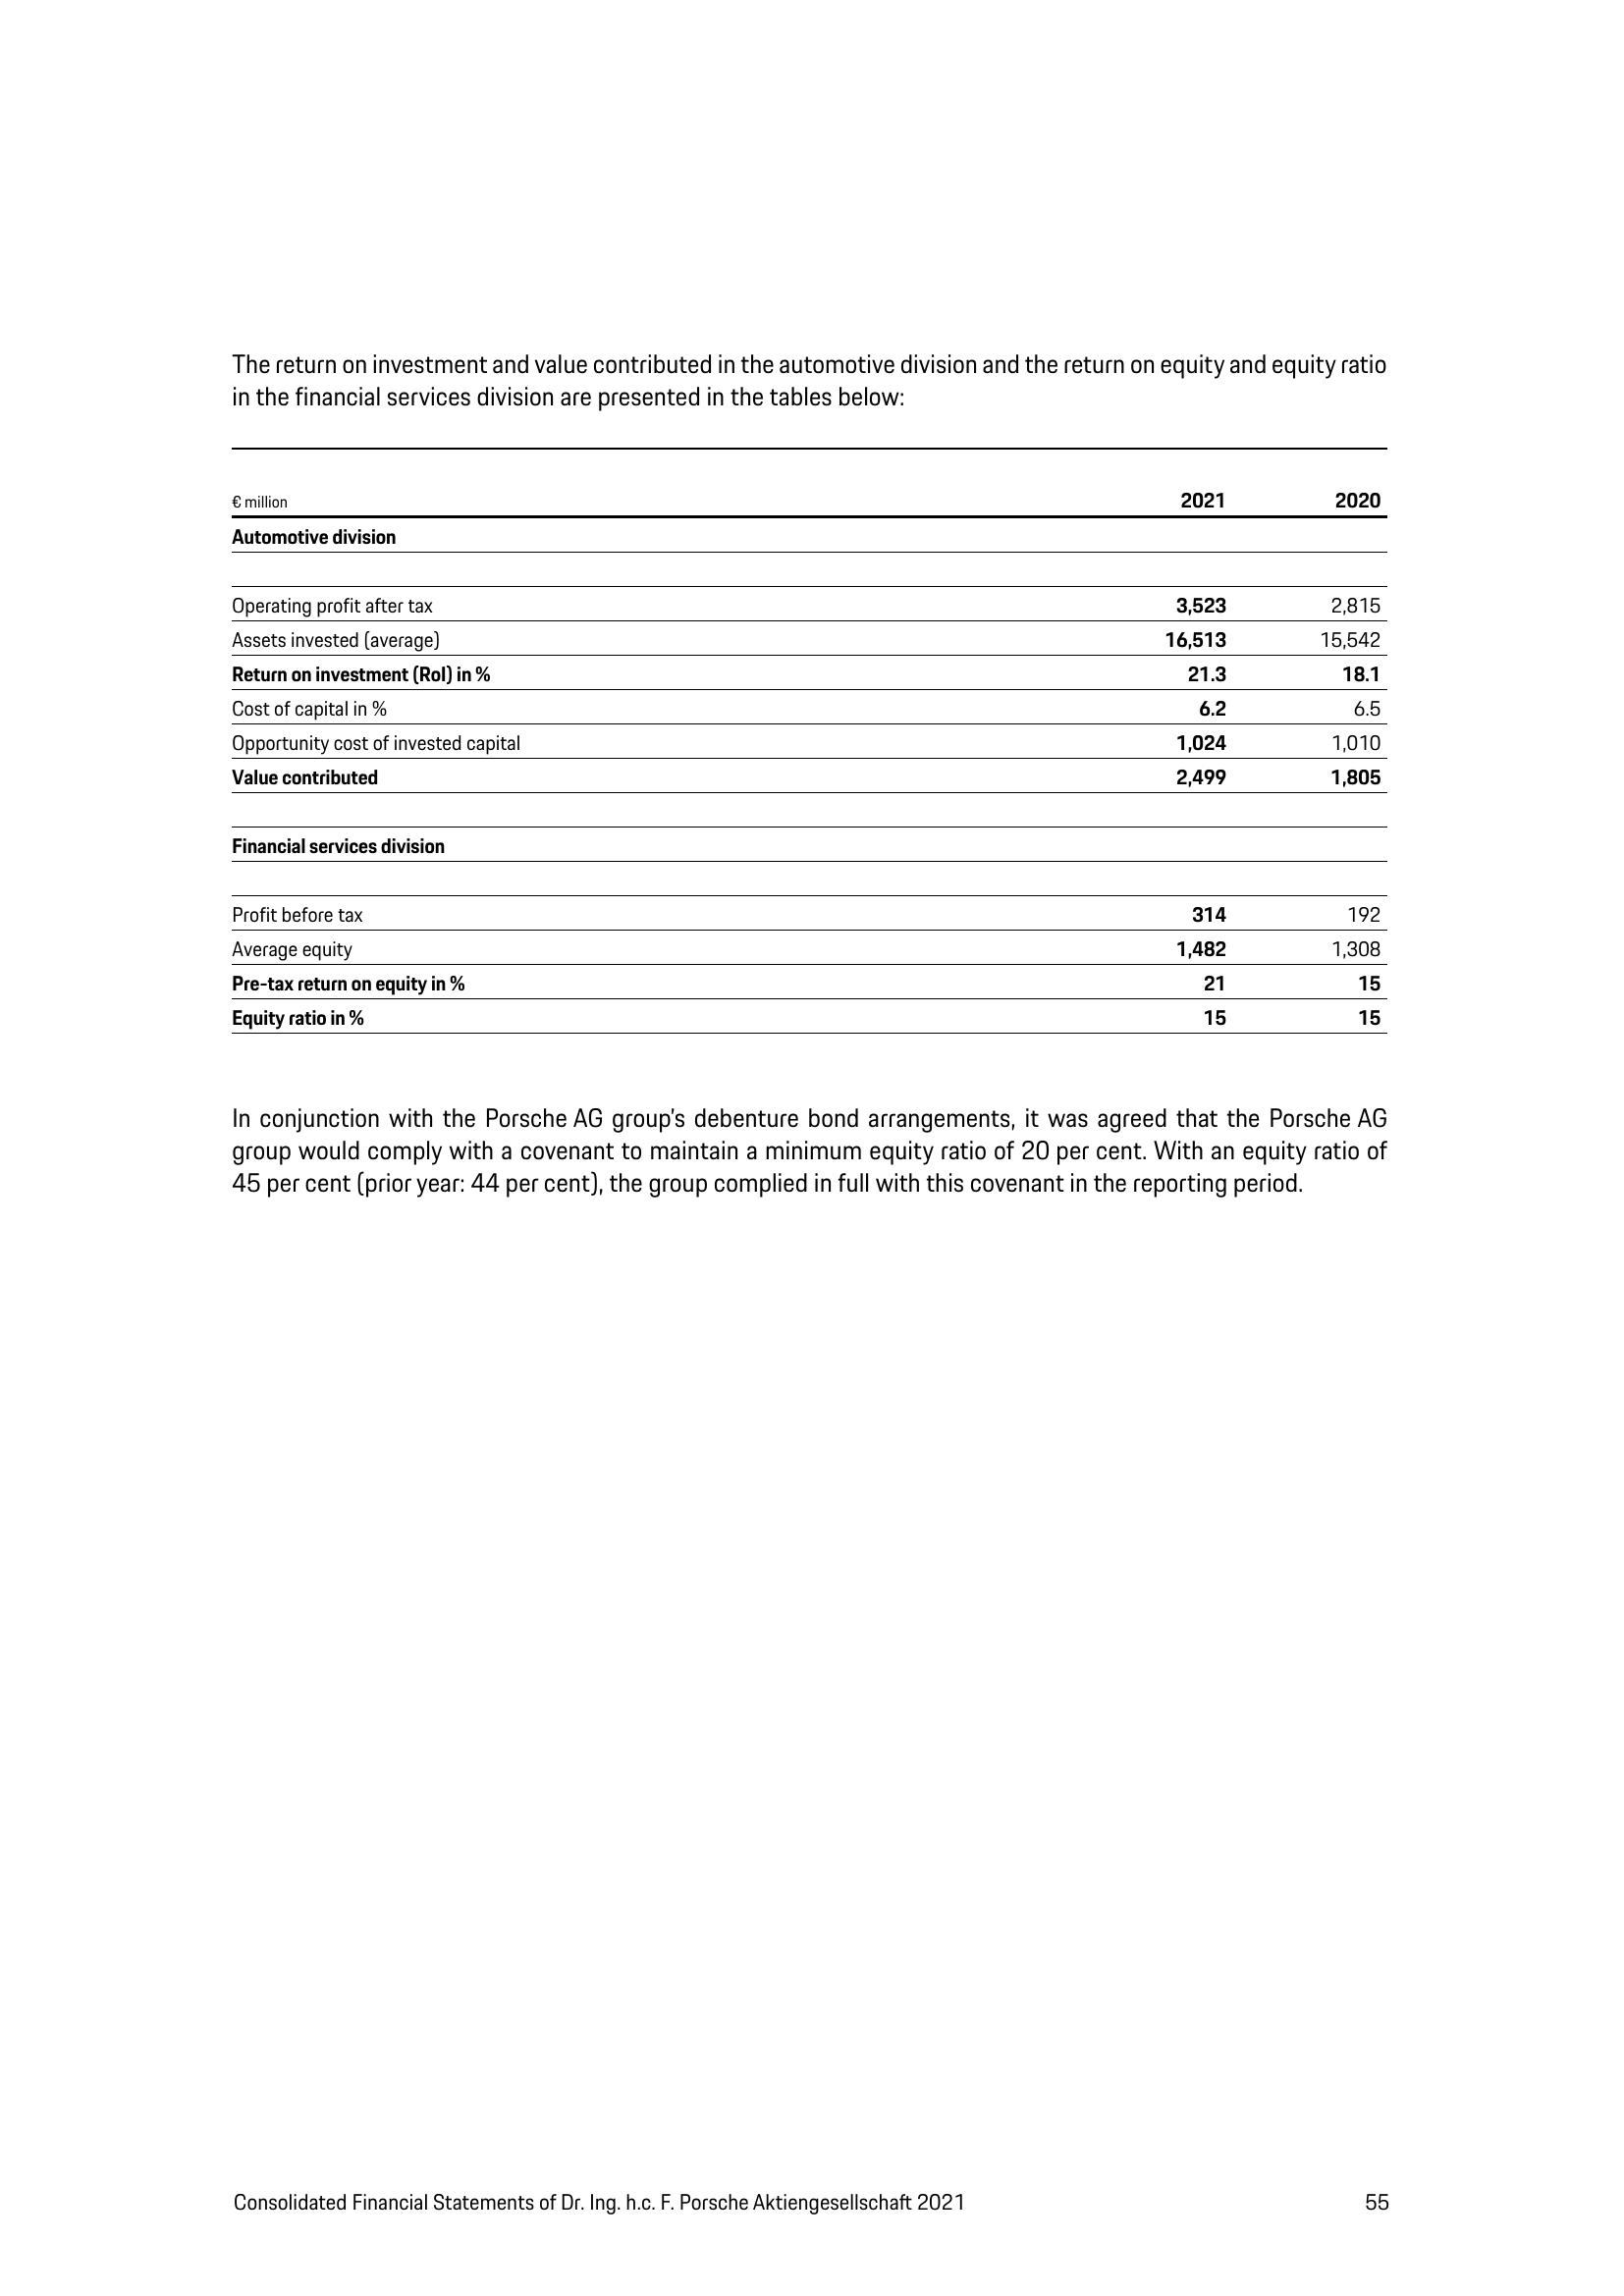Footer: (0, 2143, 1624, 2296)
Header: (0, 0, 1624, 241)
Table: (207, 448, 1429, 1065)
